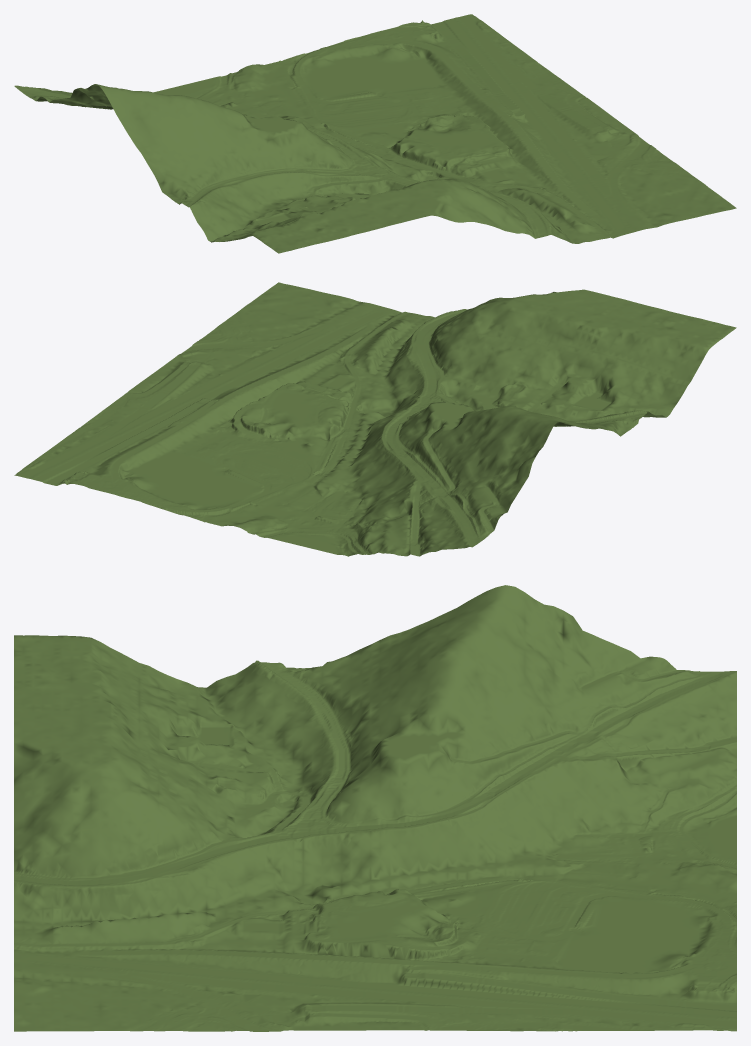
The model's file is terrain_0_2.glb.
3 views of the same model, one above another, from view 1: azimuth 30°, elevation 25°; view 2: azimuth 150°, elevation 25°; view 3: azimuth 270°, elevation 25° (orthographic). The views are drawn at different scales.
Parts seen in each view (by area): view 1: terrain_0_2; view 2: terrain_0_2; view 3: terrain_0_2.
Boxes of the visible parts, left/top/right/bottom form: terrain_0_2: left=14, top=14, right=736, bottom=253; terrain_0_2: left=14, top=282, right=736, bottom=556; terrain_0_2: left=14, top=585, right=736, bottom=1031.
Size of the model in its own units: 600 by 133 by 600.
